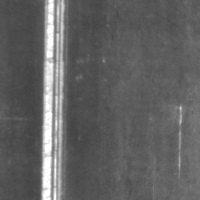scratches: (39, 0, 71, 199)
